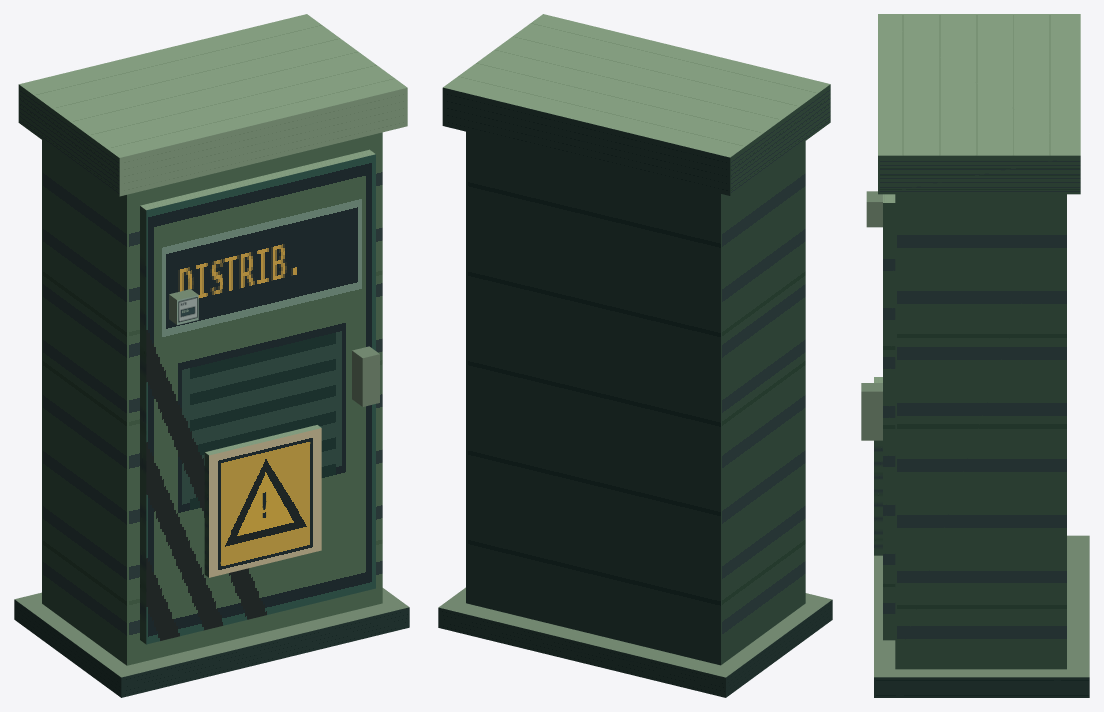
The model's file is caja_distribucion_exterior.glb.
3 renders of one model, left to right at view 1: azimuth 30°, elevation 25°; view 2: azimuth 150°, elevation 25°; view 3: azimuth 270°, elevation 25°, orthographic.
Parts seen in each view (by area): view 1: FH_PROP; view 2: FH_PROP; view 3: FH_PROP.
Boxes of the visible parts, left/top/right/bottom form: FH_PROP: left=14, top=14, right=409, bottom=697; FH_PROP: left=438, top=14, right=832, bottom=697; FH_PROP: left=861, top=14, right=1089, bottom=697.
Size of the model in its own units: 0.8108 by 1.45 by 0.5517.
1 material, 1 textured.
